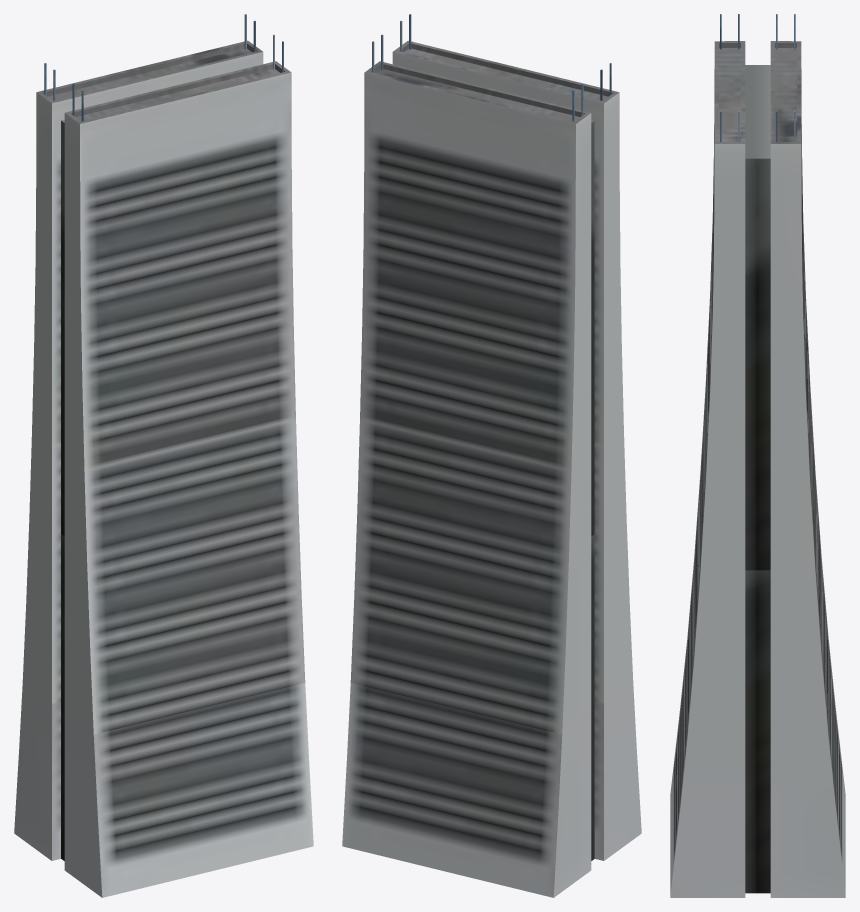
The picture shows the model from 3 angles, left to right: view 1: azimuth 30°, elevation 25°; view 2: azimuth 150°, elevation 25°; view 3: azimuth 270°, elevation 25°; orthographic projection.
Bounding box in the file's own units: 0.4003 × 1.42 × 0.2888.
Materials: 1 (1 with a texture image).
